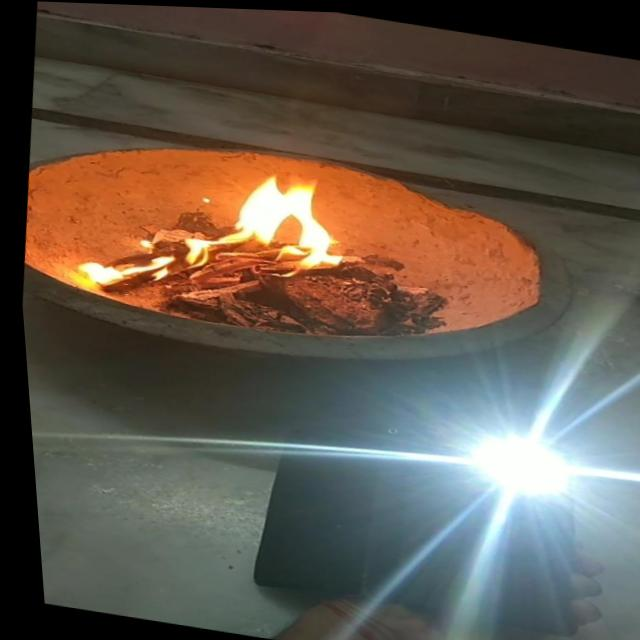fire: (198, 159, 366, 268), (60, 227, 183, 304)
